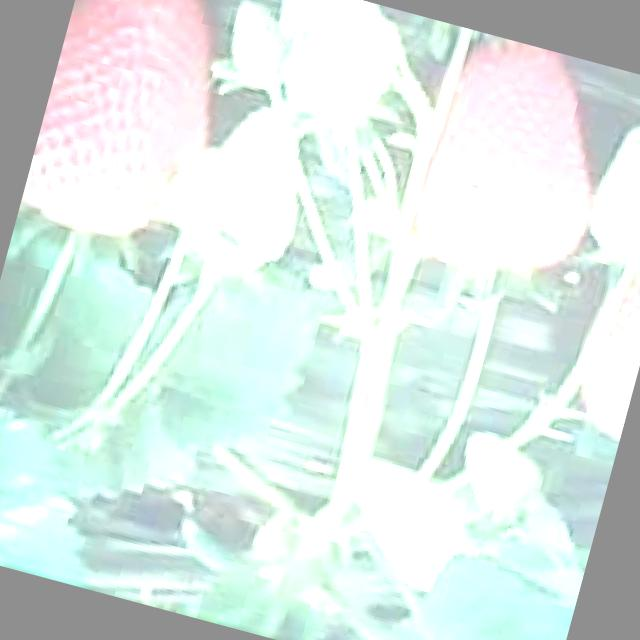Strawberry: (402, 27, 627, 295), (18, 0, 250, 252), (176, 98, 319, 290), (256, 0, 407, 131), (565, 271, 640, 441), (448, 428, 550, 530), (580, 119, 640, 267)
